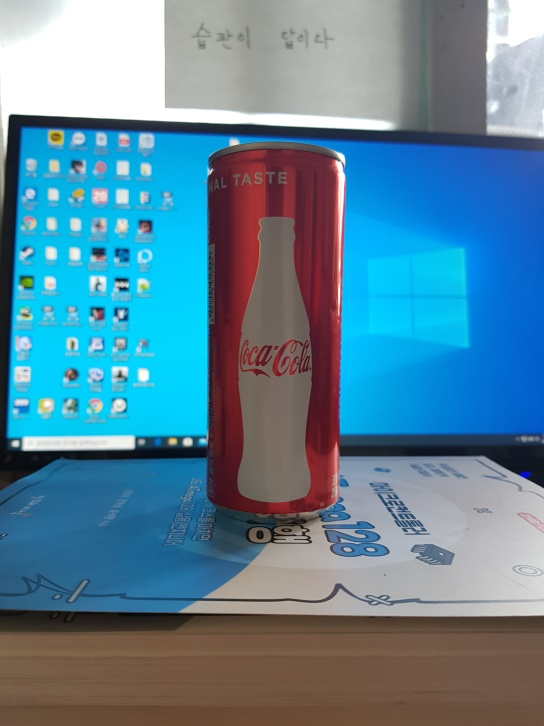Can: (203, 135, 349, 525)
